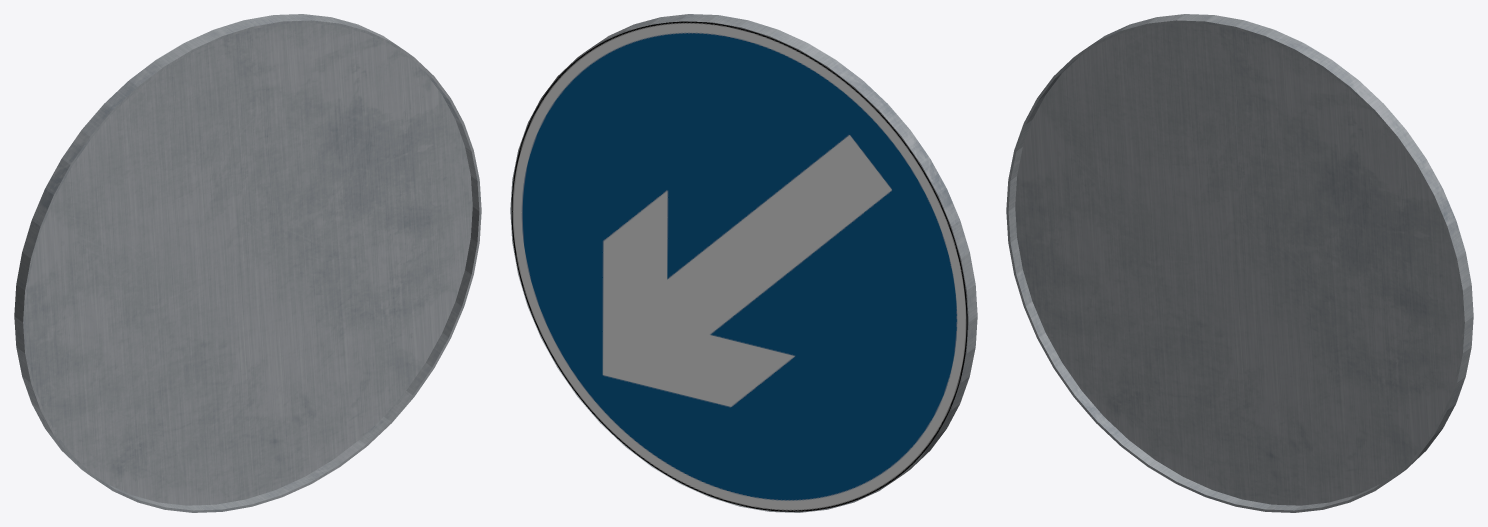
File: Pass_left.fbx
The picture shows the model from 3 angles, left to right: view 1: azimuth 30°, elevation 25°; view 2: azimuth 150°, elevation 25°; view 3: azimuth 330°, elevation 25°; orthographic projection.
Visible parts, largest first — view 1: Pass left; view 2: Pass left; view 3: Pass left.
Boxes of the visible parts, x1=… form: Pass left: x1=14, y1=14, x2=481, y2=512; Pass left: x1=510, y1=14, x2=977, y2=512; Pass left: x1=1006, y1=14, x2=1473, y2=512.
Size of the model in its own units: 0.02 by 0.6 by 0.6.
